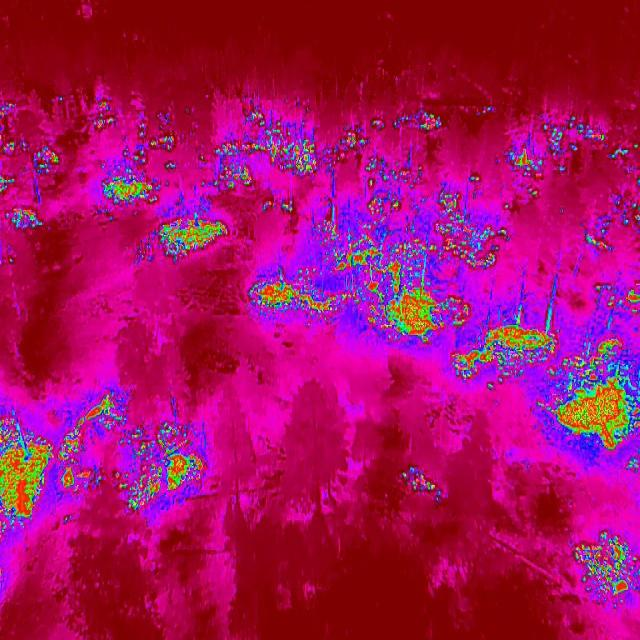fire: (544, 338, 640, 472), (212, 102, 320, 212), (447, 299, 567, 393), (412, 172, 512, 270), (500, 112, 640, 180), (114, 417, 211, 513), (366, 260, 468, 348), (0, 99, 62, 235), (318, 207, 411, 297), (0, 410, 53, 538), (245, 273, 360, 329), (58, 390, 117, 495), (569, 526, 640, 609), (359, 152, 427, 207), (155, 214, 229, 262), (369, 108, 452, 142), (580, 204, 640, 251), (98, 166, 158, 209), (589, 270, 640, 319), (398, 463, 447, 508), (136, 120, 180, 170), (333, 122, 371, 160), (92, 96, 116, 134), (524, 184, 544, 203)
